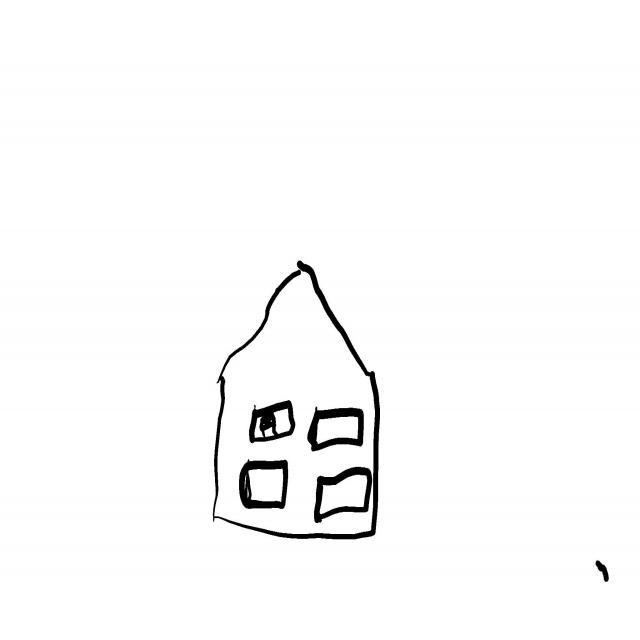house: (213, 261, 380, 540)
window: (314, 468, 373, 524), (308, 409, 364, 452), (239, 462, 288, 510), (250, 401, 295, 442)
